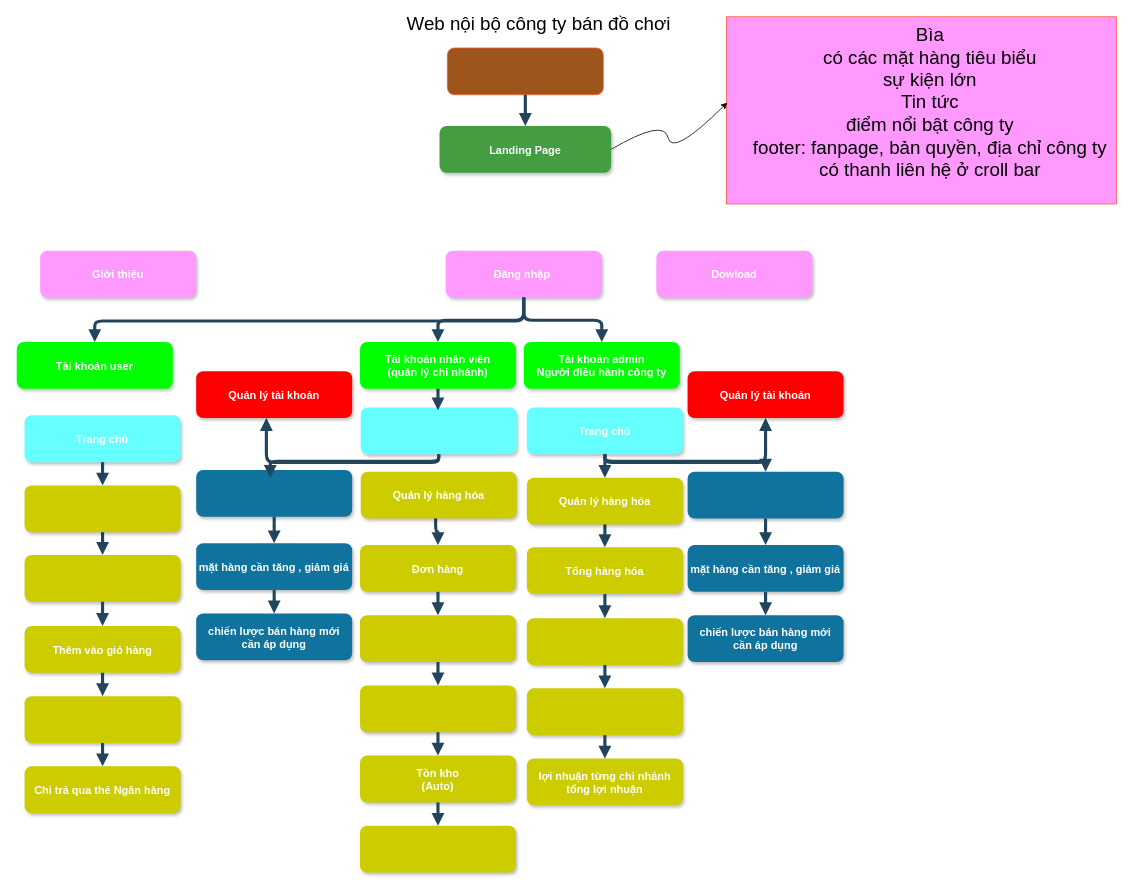
Some shapes in this 1146 by 892 pixel diagram are drawn without their labels. The centre of each missing label's shape, as x and y in pixels:
các thay đổi-sự kiện -workshop: pixel 274 494
Hàng hóa (cho phép thêm sửa xóa): pixel 438 639
Lợi nhuận (từng loại mặt hàng) Lợi nhuận tổng chi nhánh (auto tính): pixel 438 850
Người có quyền thay đổi-sự kiện -workshop cho toàn hệ thống: pixel 766 496
Nhập kho (cho phép thêm sửa xóa): pixel 438 709
Nhập số lượng mua hàng, mua hàng, nhập thông tin cá nhân, địa điểm giao hàng: pixel 103 720
Trang chủ ( có thể thêm trang hướng dẫn): pixel 439 431
Tổng nhập kho: pixel 605 642
Tổng tồn kho: pixel 605 712
Wed: pixel 525 71
Xem chi tiết hàng hóa: pixel 103 579
Xem hàng hóa: pixel 103 509
